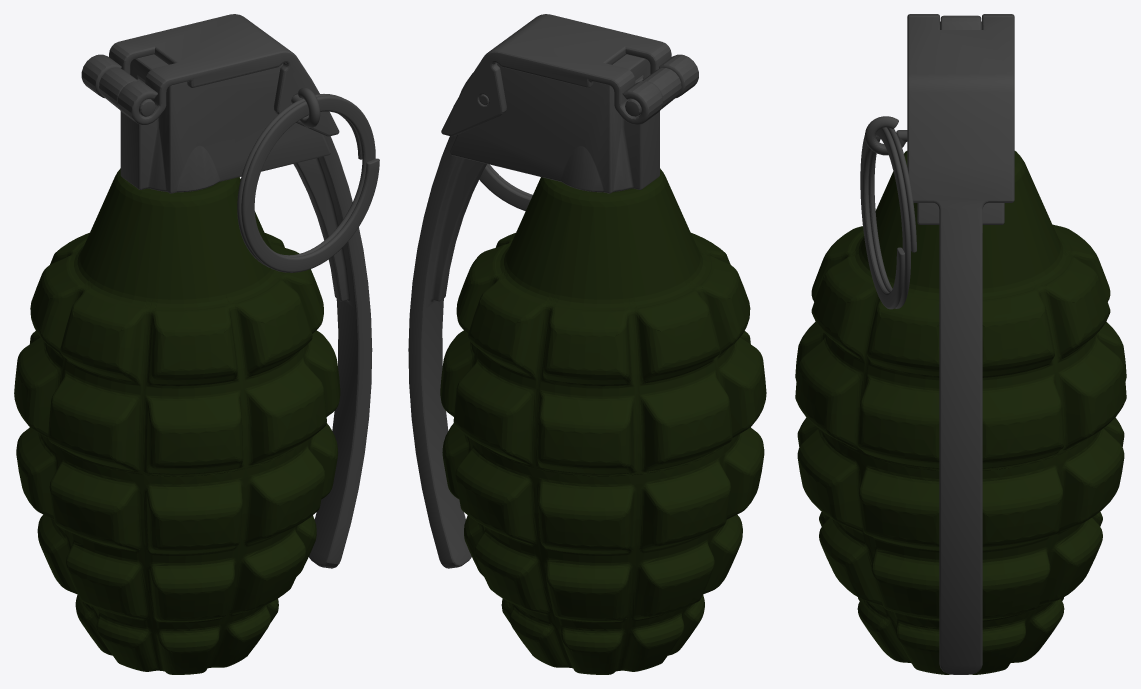
File: granade.fbx
3 views of the same model, side by side, from view 1: azimuth 30°, elevation 25°; view 2: azimuth 150°, elevation 25°; view 3: azimuth 270°, elevation 25° (orthographic). The views are drawn at different scales.
Parts seen in each view (by area): view 1: Layer:0 (×5); view 2: Layer:0 (×4); view 3: Layer:0 (×5).
Part boxes in pixels (box(x1,y1,x2,y2)): Layer:0 (×5): box(14, 14, 379, 674); Layer:0 (×4): box(408, 14, 766, 674); Layer:0 (×5): box(795, 14, 1126, 674).
Bounding box in the file's own units: 1325 × 2328 × 1138.
